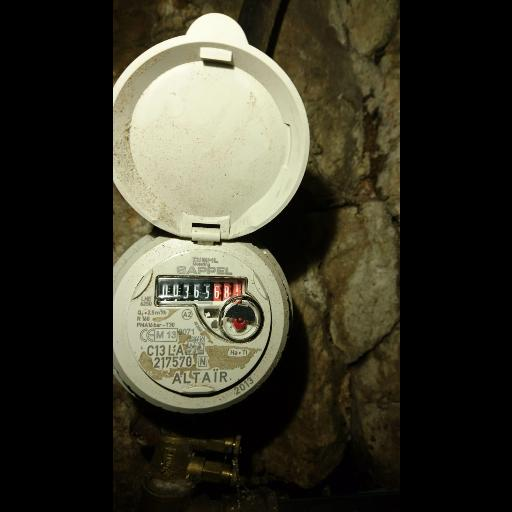0: (159, 281, 170, 301), (170, 281, 181, 301)
1: (231, 282, 242, 297)
3: (181, 281, 192, 301)
5: (200, 281, 212, 301)
6: (191, 281, 202, 301), (211, 281, 222, 301)
8: (222, 283, 232, 302)
border_water_meter_number: (153, 275, 247, 307)
